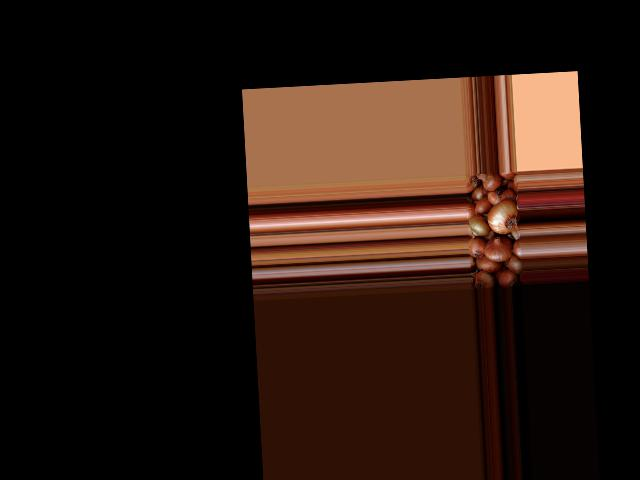onion: (475, 270, 495, 289)
